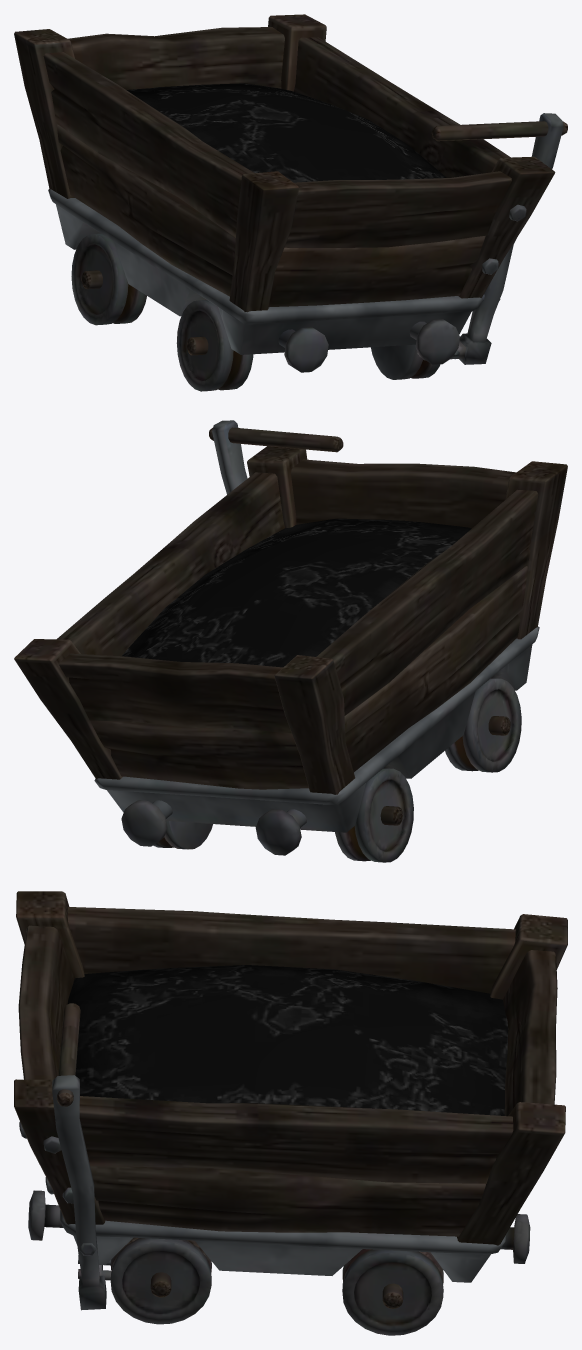
File: minecart.glb
The picture shows the model from 3 angles, top to bottom: view 1: azimuth 30°, elevation 25°; view 2: azimuth 150°, elevation 25°; view 3: azimuth 270°, elevation 25°; orthographic projection. The views are drawn at different scales.
Parts seen in each view (by area): view 1: Minecart020_low_MinecartMat.001_0, Minecart010_low_CoalMat.001_0; view 2: Minecart020_low_MinecartMat.001_0, Minecart010_low_CoalMat.001_0; view 3: Minecart020_low_MinecartMat.001_0, Minecart010_low_CoalMat.001_0.
Boxes of the visible parts, left/top/right/bottom form: Minecart020_low_MinecartMat.001_0: left=14, top=14, right=567, bottom=391; Minecart010_low_CoalMat.001_0: left=126, top=83, right=446, bottom=182; Minecart020_low_MinecartMat.001_0: left=14, top=420, right=567, bottom=862; Minecart010_low_CoalMat.001_0: left=122, top=518, right=471, bottom=667; Minecart020_low_MinecartMat.001_0: left=14, top=891, right=567, bottom=1335; Minecart010_low_CoalMat.001_0: left=67, top=965, right=508, bottom=1115.
Size of the model in its own units: 1043 by 887 by 1358.
Materials: 2 (2 with a texture image).
